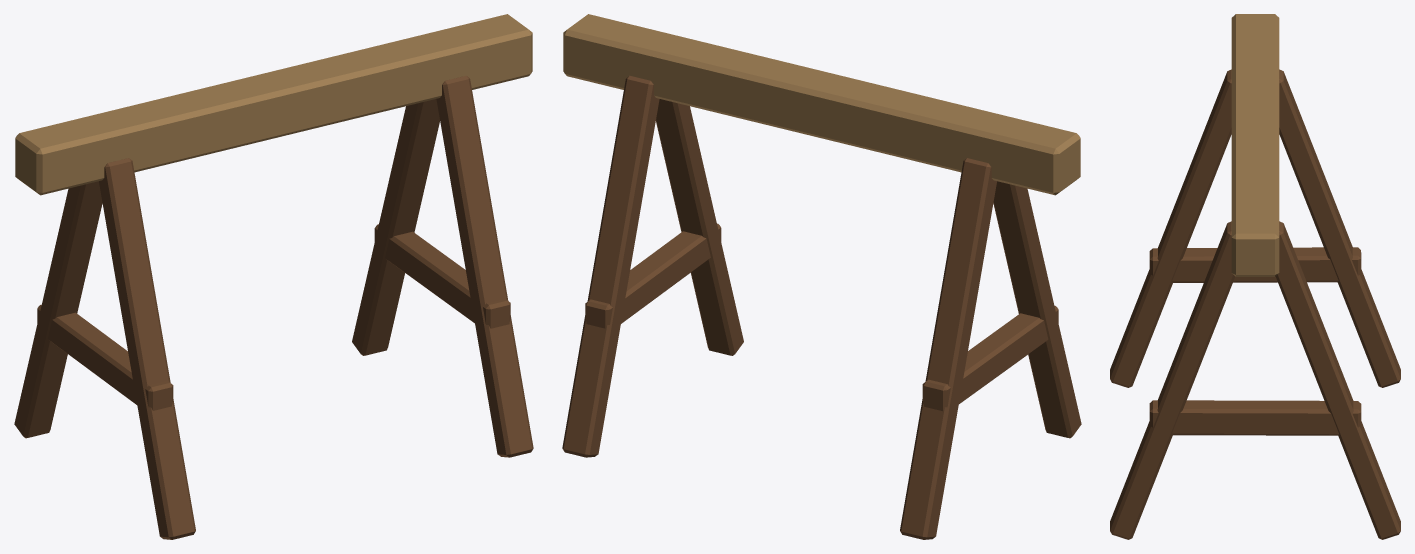
File: sawhorse.glb
The picture shows the model from 3 angles, left to right: view 1: azimuth 30°, elevation 25°; view 2: azimuth 150°, elevation 25°; view 3: azimuth 270°, elevation 25°; orthographic projection. The views are drawn at different scales.
Visible parts, largest first — view 1: sawhorse; view 2: sawhorse; view 3: sawhorse.
Part boxes in pixels (left/top/right/bottom): sawhorse: left=14, top=14, right=533, bottom=539; sawhorse: left=562, top=14, right=1081, bottom=539; sawhorse: left=1110, top=14, right=1400, bottom=539.
Bounding box in the file's own units: 1 × 0.7 × 0.5504.
